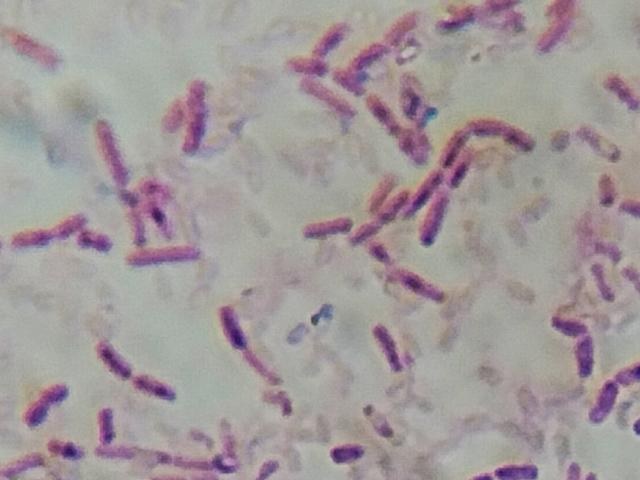E. coli: (162, 76, 212, 159), (369, 95, 423, 159), (121, 445, 236, 473), (552, 312, 596, 376), (399, 265, 458, 309), (468, 115, 537, 149), (128, 240, 198, 272), (25, 382, 73, 426), (305, 75, 350, 120), (448, 0, 514, 30), (215, 297, 248, 355), (537, 2, 572, 56), (98, 119, 126, 185), (373, 319, 409, 370), (16, 26, 60, 67), (19, 216, 83, 243), (139, 193, 175, 239), (345, 39, 393, 72), (602, 73, 640, 112), (424, 193, 450, 249), (383, 12, 426, 45), (333, 67, 373, 102), (98, 330, 127, 376), (591, 378, 617, 429), (488, 456, 542, 480), (132, 370, 176, 399), (412, 170, 439, 214), (442, 123, 467, 169), (322, 440, 366, 466), (312, 19, 344, 54), (448, 147, 477, 185), (303, 216, 352, 238), (123, 205, 148, 246), (256, 355, 288, 387), (8, 450, 42, 480), (76, 227, 111, 256), (52, 436, 87, 463), (379, 183, 408, 215), (592, 171, 617, 207), (589, 265, 613, 302), (613, 358, 640, 389), (99, 406, 119, 443), (368, 240, 390, 272), (346, 220, 379, 241), (362, 176, 385, 205), (619, 193, 640, 219), (288, 55, 319, 71)
